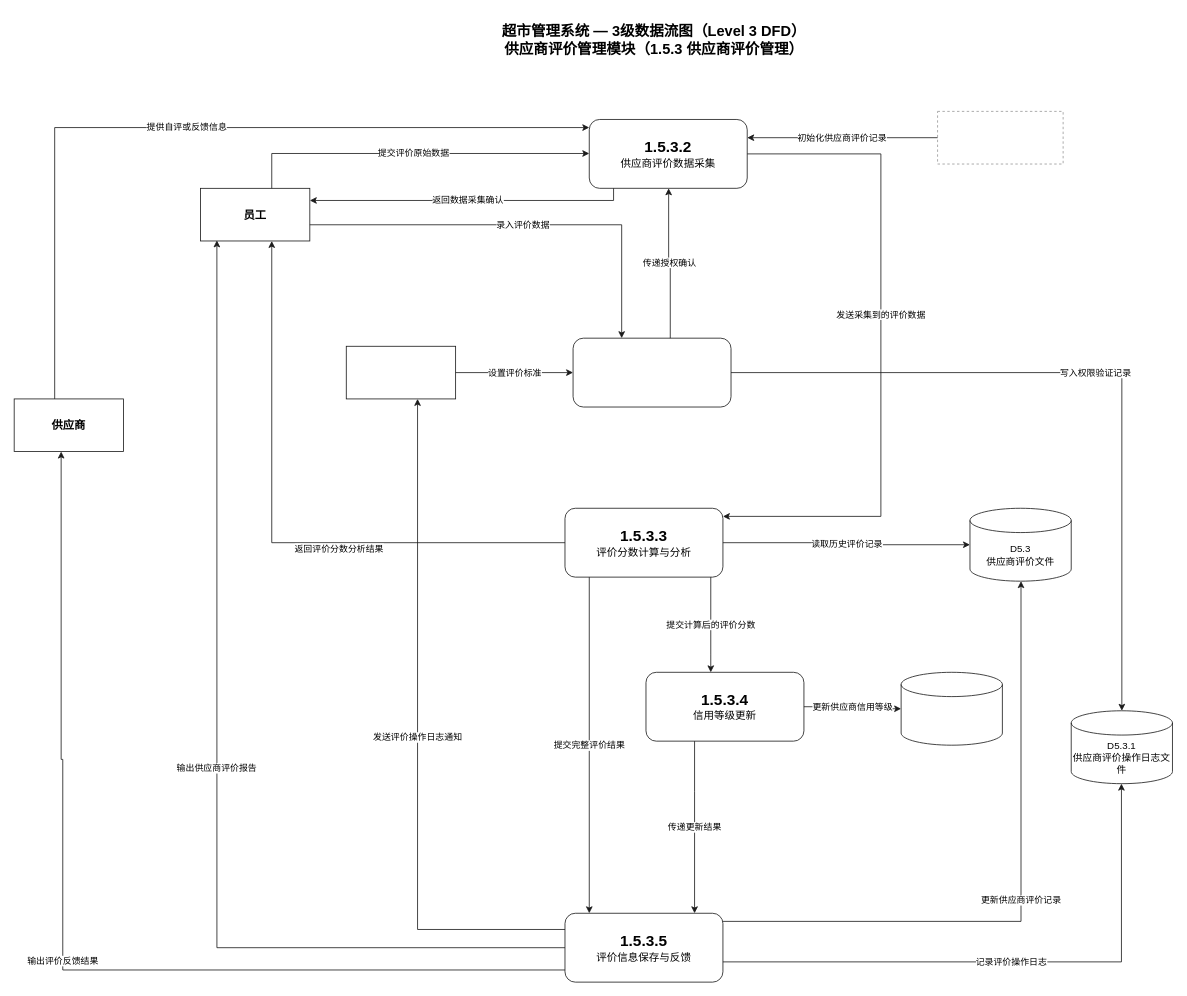
The diagram is 1187 pixels wide and 996 high, and some of its shapes have lost their labels. The box of each missing label's shape, as (x1, y1, x2, y2) in pixels:
1.5.3.1 评价操作权限验证: (572, 337, 731, 407)
D5.1 供应商基本信息文件: (900, 671, 1002, 745)
供应商信息录入模块: (937, 111, 1063, 164)
系统管理员: (345, 345, 456, 399)
